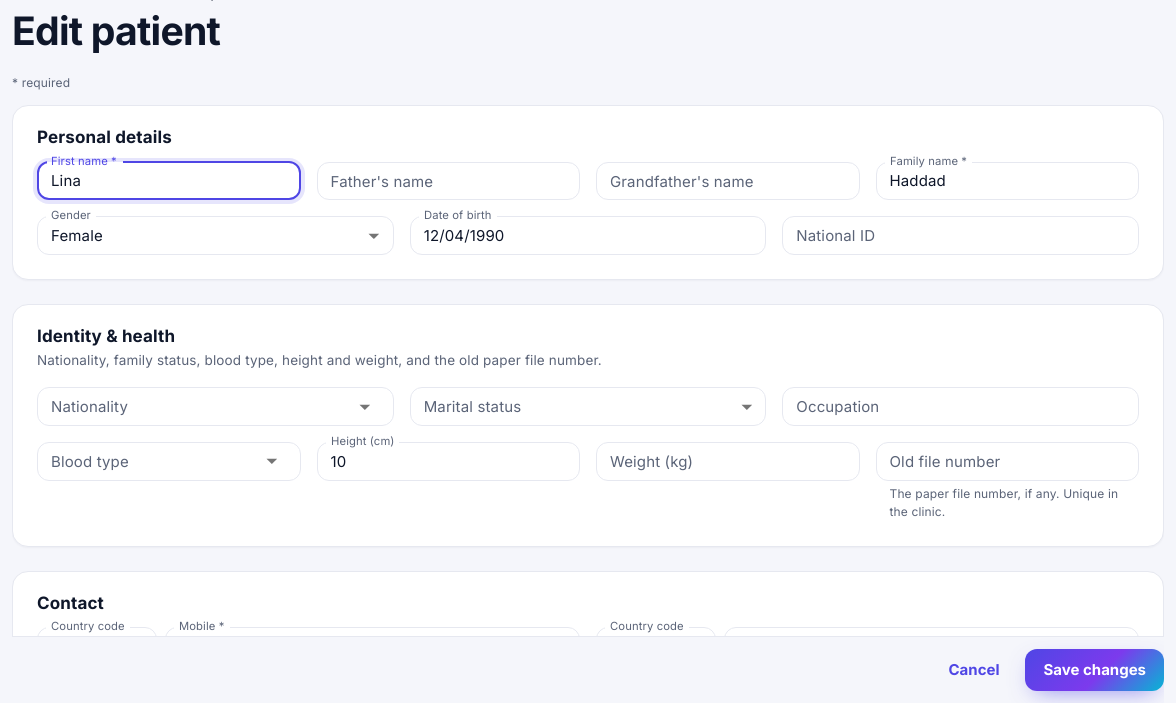
Test: patient form — details, flags and referral › blocks invalid height, a note-less "other" flag and a nameless campaign (en)
The image size is (1176, 703).
What coordinates should you click on to do the following:
click the button "Save changes"
I would click on:
 (1095, 670)
Its box is [1026, 649, 1164, 691].
(page scrolled)
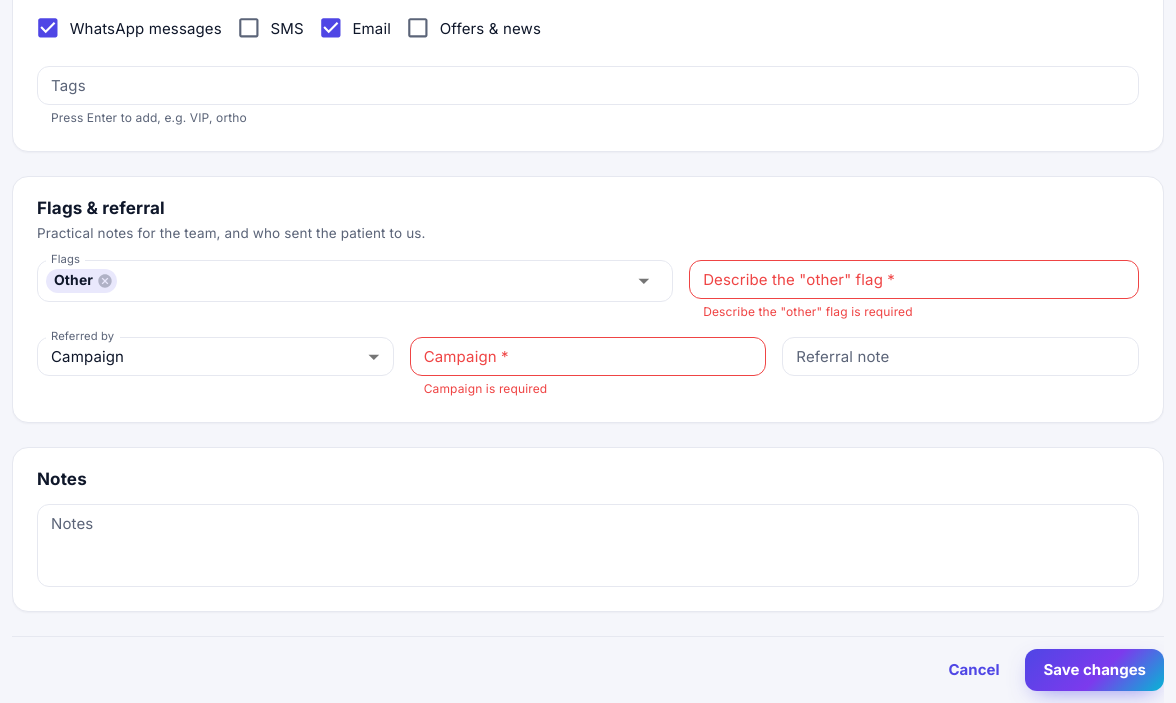
Now the text "Describe the \"other\" flag is required" is shown, box [703, 304, 913, 318]
Now the text "Campaign is required" is shown, box [424, 381, 547, 396]
